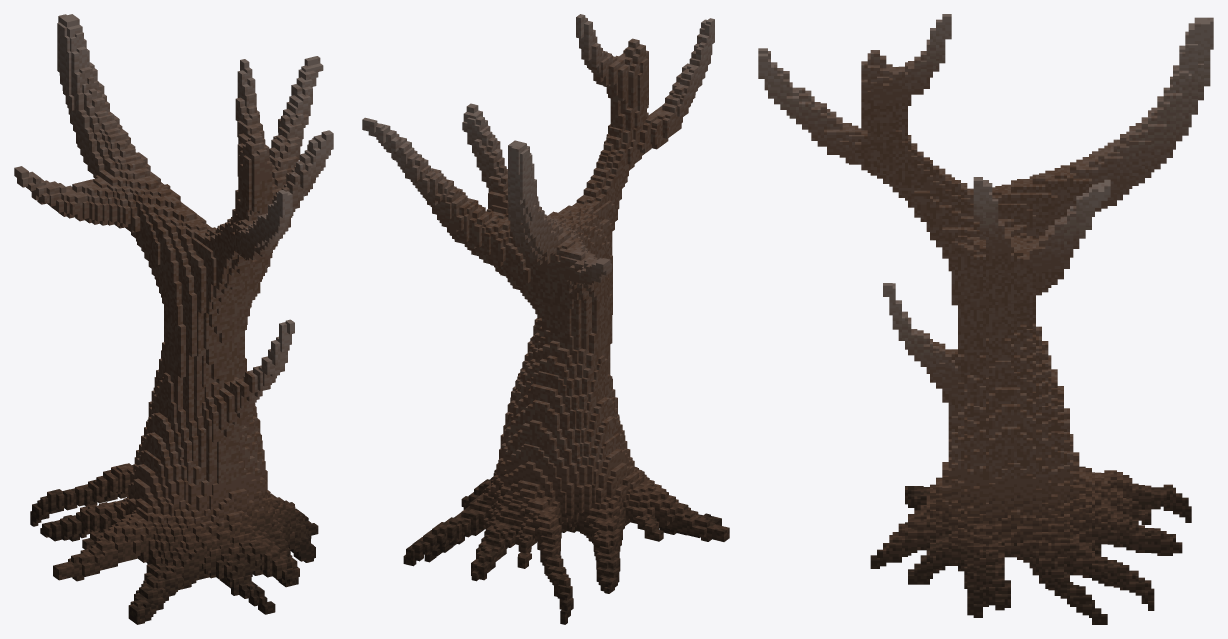
File: deadtree.fbx
The picture shows the model from 3 angles, left to right: view 1: azimuth 30°, elevation 25°; view 2: azimuth 150°, elevation 25°; view 3: azimuth 270°, elevation 25°; orthographic projection. The views are drawn at different scales.
Visible parts, largest first — view 1: deadtree; view 2: deadtree; view 3: deadtree.
Part boxes in pixels (x1,y1,x2,y2): deadtree: (14,14,333,624); deadtree: (362,14,729,624); deadtree: (758,14,1213,624).
Size of the model in its own units: 378 by 600 by 438.
